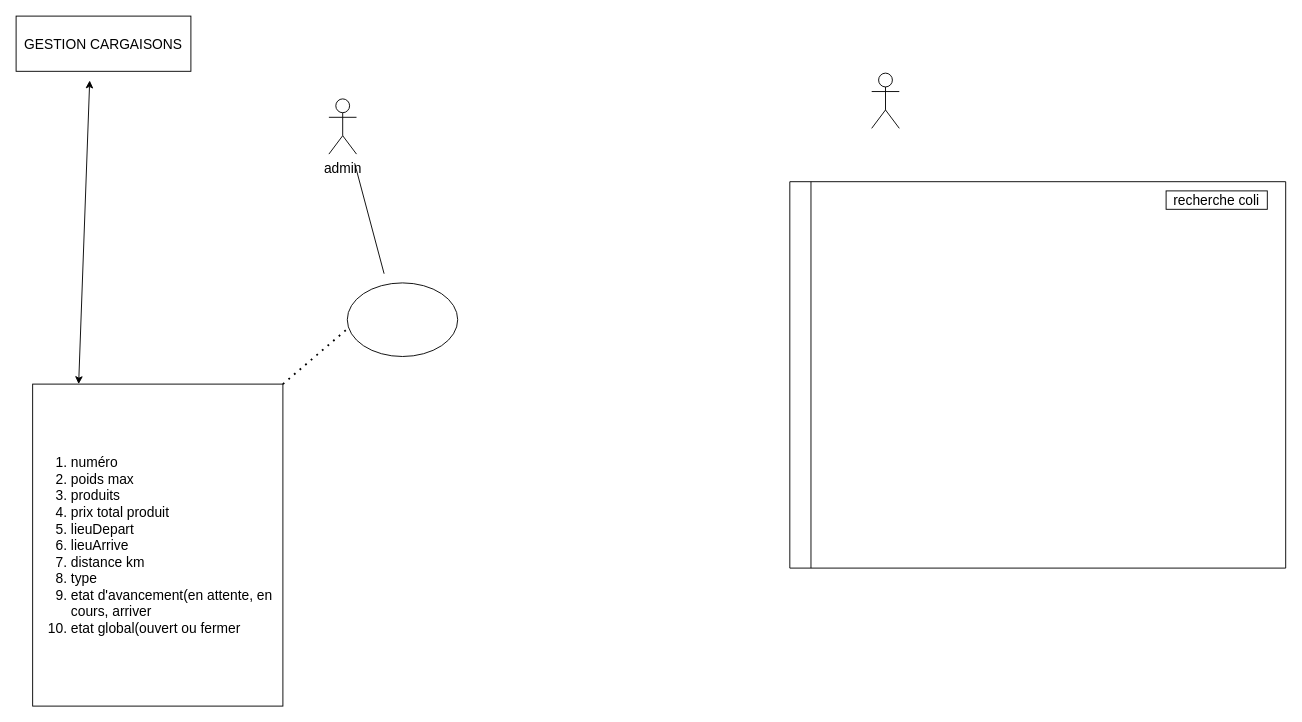
Image size: 1302x722. Some labels were removed from this diagram. The shapes that lost their labels are listed below. From the top down, each one's centre as x and y in pixels, then its label:
At [885,100]: "client".
At [402,319]: "Authentification".
